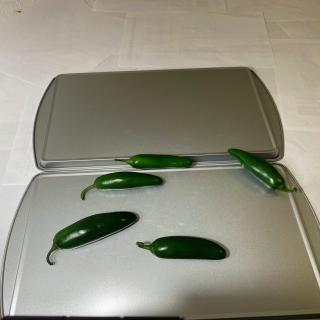Tomato: (46, 211, 140, 265), (227, 148, 297, 193), (80, 171, 164, 200), (135, 236, 227, 260), (114, 154, 193, 169)
